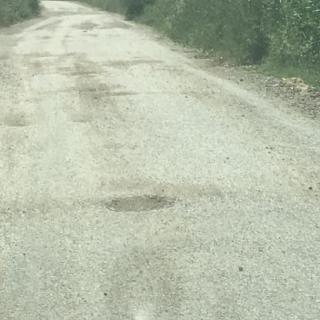pothole: (105, 195, 177, 212), (5, 121, 30, 128)
